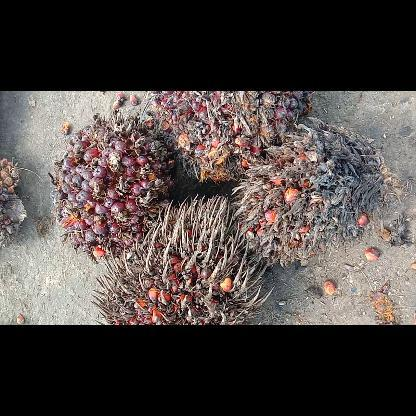TBS masak: (50, 112, 180, 262), (150, 90, 312, 184)
Terlalu masak: (232, 120, 398, 266), (92, 194, 274, 324)
